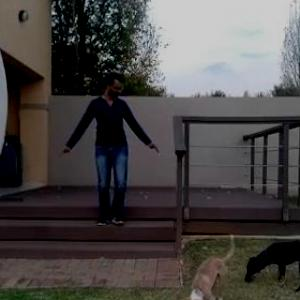land: (68, 75, 156, 239)
